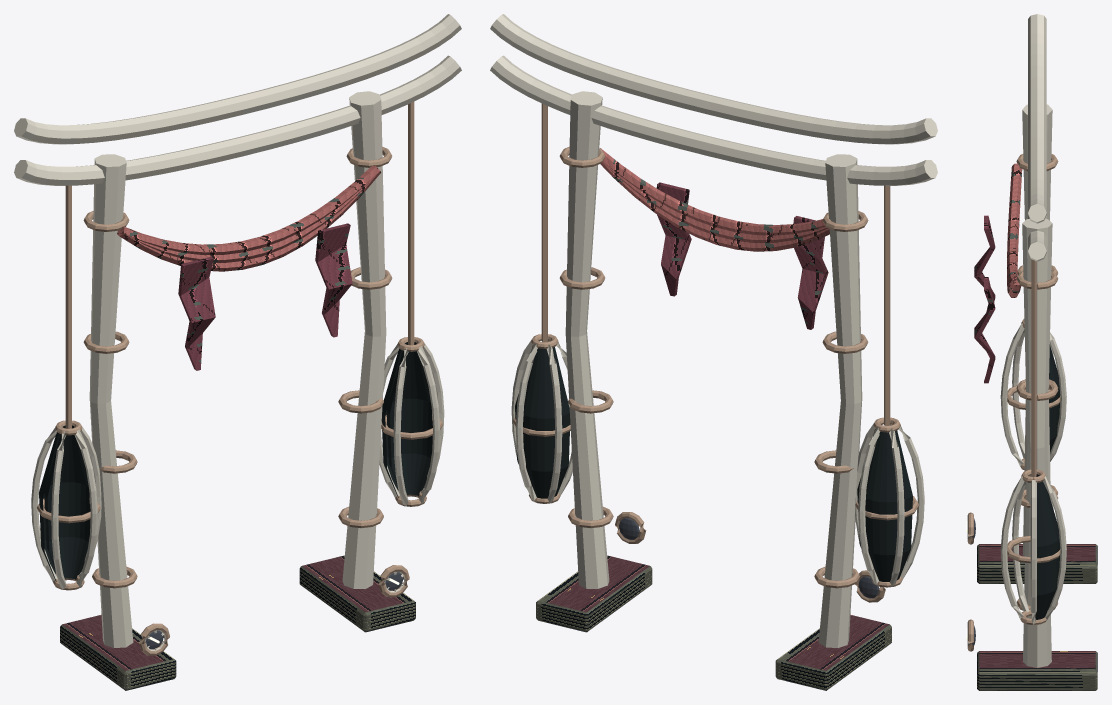
The model's file is inversion_bound_gate.glb.
3 views of the same model, side by side, from view 1: azimuth 30°, elevation 25°; view 2: azimuth 150°, elevation 25°; view 3: azimuth 270°, elevation 25° (orthographic). The views are drawn at different scales.
Parts seen in each view (by area): view 1: inversion_bound_gate_warm, inversion_bound_gate_petrol, inversion_bound_gate_worn, inversion_bound_gate_suture, inversion_bound_gate_bruised; view 2: inversion_bound_gate_warm, inversion_bound_gate_petrol, inversion_bound_gate_worn, inversion_bound_gate_suture, inversion_bound_gate_bruised, inversion_bound_gate_deep; view 3: inversion_bound_gate_warm, inversion_bound_gate_petrol, inversion_bound_gate_worn, inversion_bound_gate_suture, inversion_bound_gate_bruised.
Part boxes in pixels (box(x1,y1,x2,y2)): inversion_bound_gate_warm: box(14, 14, 461, 651); inversion_bound_gate_petrol: box(39, 342, 432, 690); inversion_bound_gate_worn: box(37, 101, 442, 655); inversion_bound_gate_suture: box(117, 165, 380, 271); inversion_bound_gate_bruised: box(178, 223, 352, 370); inversion_bound_gate_warm: box(490, 14, 937, 647); inversion_bound_gate_petrol: box(515, 340, 912, 690); inversion_bound_gate_worn: box(513, 103, 918, 602); inversion_bound_gate_suture: box(600, 148, 829, 251); inversion_bound_gate_bruised: box(656, 182, 828, 329); inversion_bound_gate_deep: box(619, 518, 879, 598); inversion_bound_gate_warm: box(968, 14, 1066, 667); inversion_bound_gate_petrol: box(977, 344, 1097, 690); inversion_bound_gate_worn: box(967, 154, 1060, 651); inversion_bound_gate_suture: box(1007, 163, 1022, 297); inversion_bound_gate_bruised: box(974, 215, 995, 383).
Bounding box in the file's own units: 6.48 × 7.9 × 1.82.
Materials: 7 (3 with a texture image).
